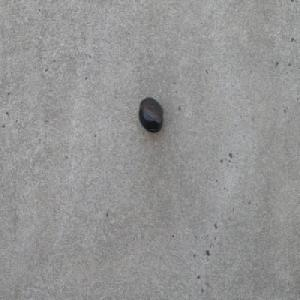FuelCap: (138, 96, 164, 134)
